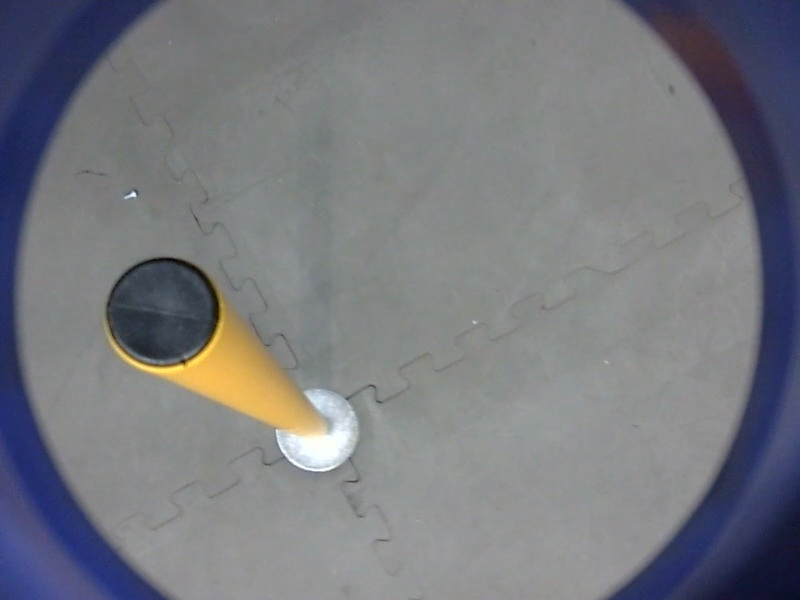tip: (96, 250, 231, 380)
